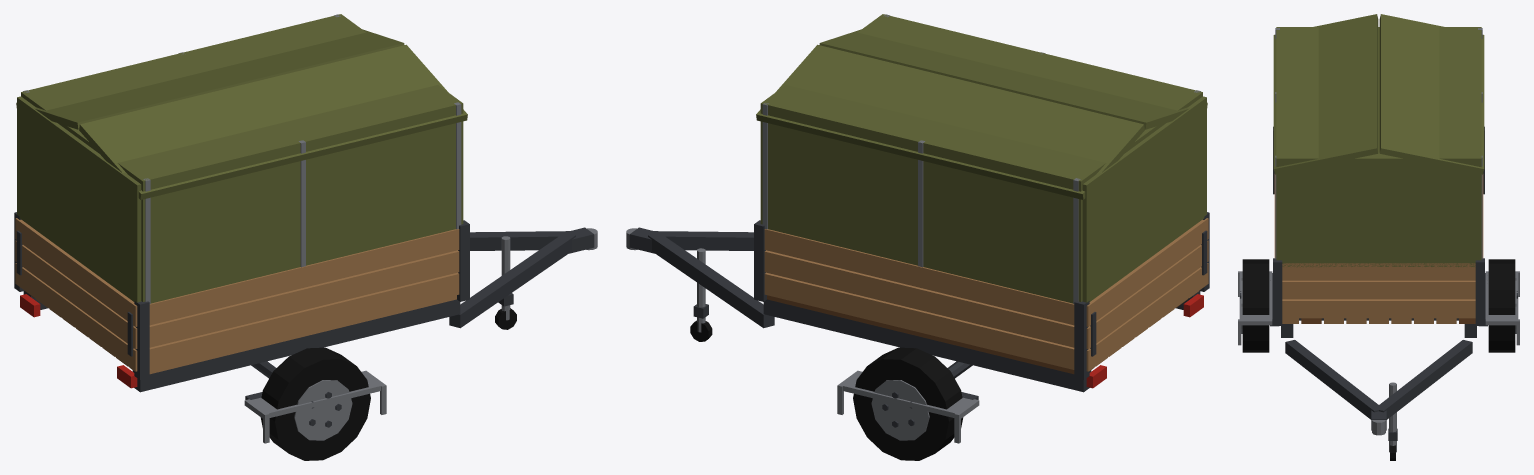
File: trailer_covered_idle.glb
The picture shows the model from 3 angles, left to right: view 1: azimuth 30°, elevation 25°; view 2: azimuth 150°, elevation 25°; view 3: azimuth 270°, elevation 25°; orthographic projection. The views are drawn at different scales.
Visible parts, largest first — view 1: body.001; view 2: body.001; view 3: body.001.
Part boxes in pixels (bbox=[...]): body.001: bbox=[14, 14, 597, 460]; body.001: bbox=[626, 14, 1209, 460]; body.001: bbox=[1238, 14, 1519, 460].
Size of the model in its own units: 3.26 by 1.89 by 1.81.
